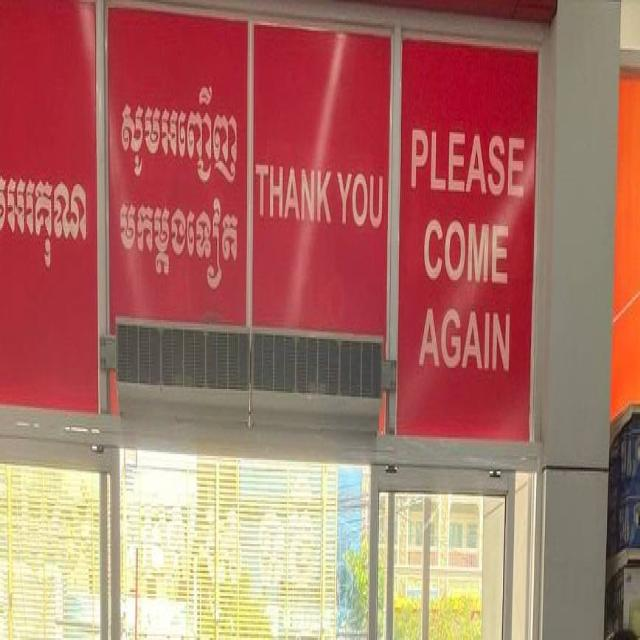Yolov11kh: (116, 82, 247, 190), (116, 195, 243, 301), (4, 148, 88, 278)
